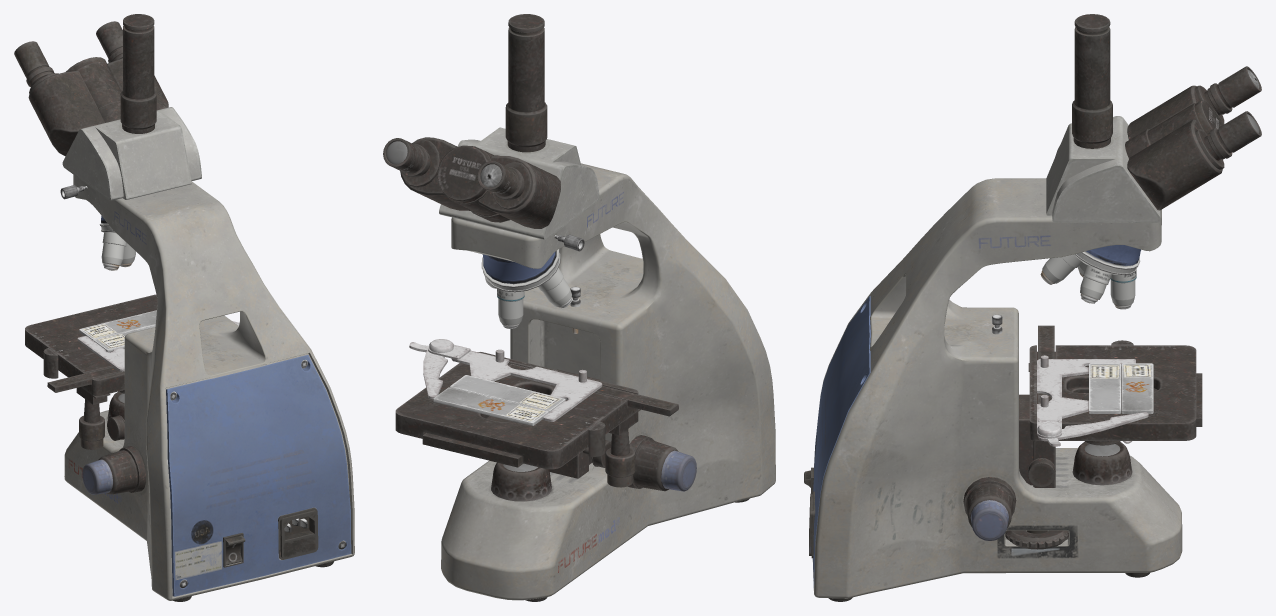
The model's file is microscope.glb.
The picture shows the model from 3 angles, left to right: view 1: azimuth 30°, elevation 25°; view 2: azimuth 150°, elevation 25°; view 3: azimuth 270°, elevation 25°; orthographic projection. The views are drawn at different scales.
Parts seen in each view (by area): view 1: polySurface631; view 2: polySurface631; view 3: polySurface631.
Part boxes in pixels (x1=…): polySurface631: x1=14, y1=14, x2=354, y2=601; polySurface631: x1=383, y1=14, x2=775, y2=601; polySurface631: x1=804, y1=14, x2=1261, y2=601.
Bounding box in the file's own units: 0.1958 × 0.3966 × 0.3066.
1 material, 1 textured.
